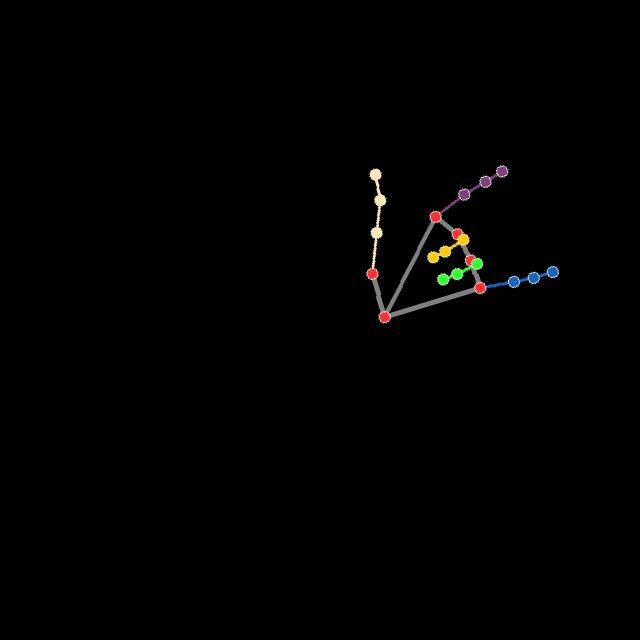spiderman: (363, 157, 560, 330)
